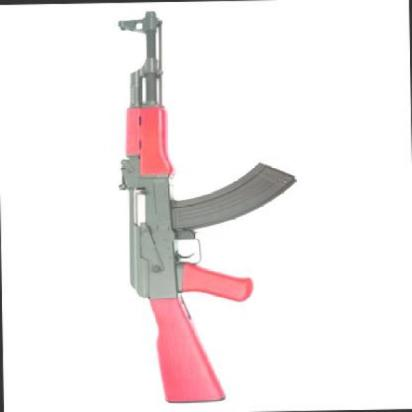Gun: (90, 7, 309, 403)
